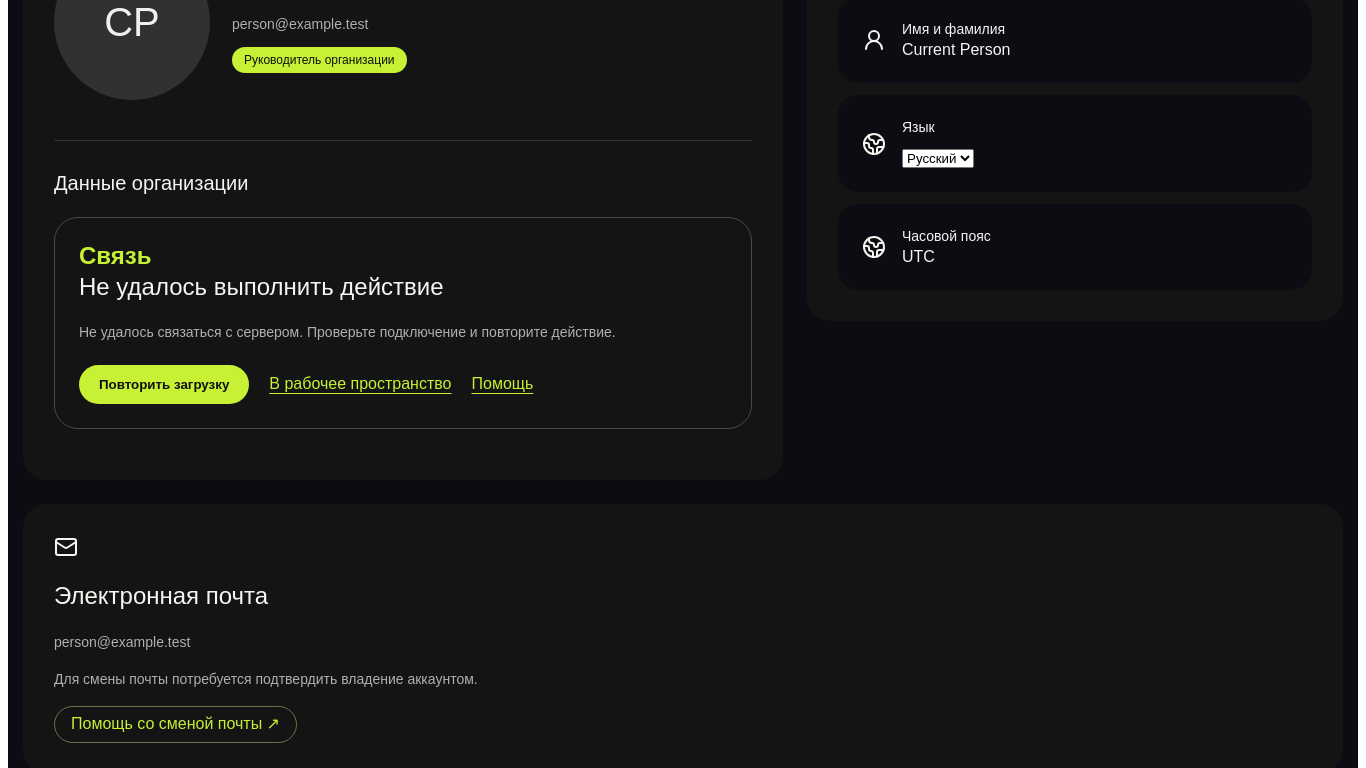
Test: retries organization loading after a network failure without presenting an onboarding offer
The image size is (1366, 768).
(page scrolled)
Expected: the message is shown, left=54, top=217, right=752, bottom=429
Click the button "Повторить загрузку": [164, 384] box left=79, top=365, right=249, bottom=404
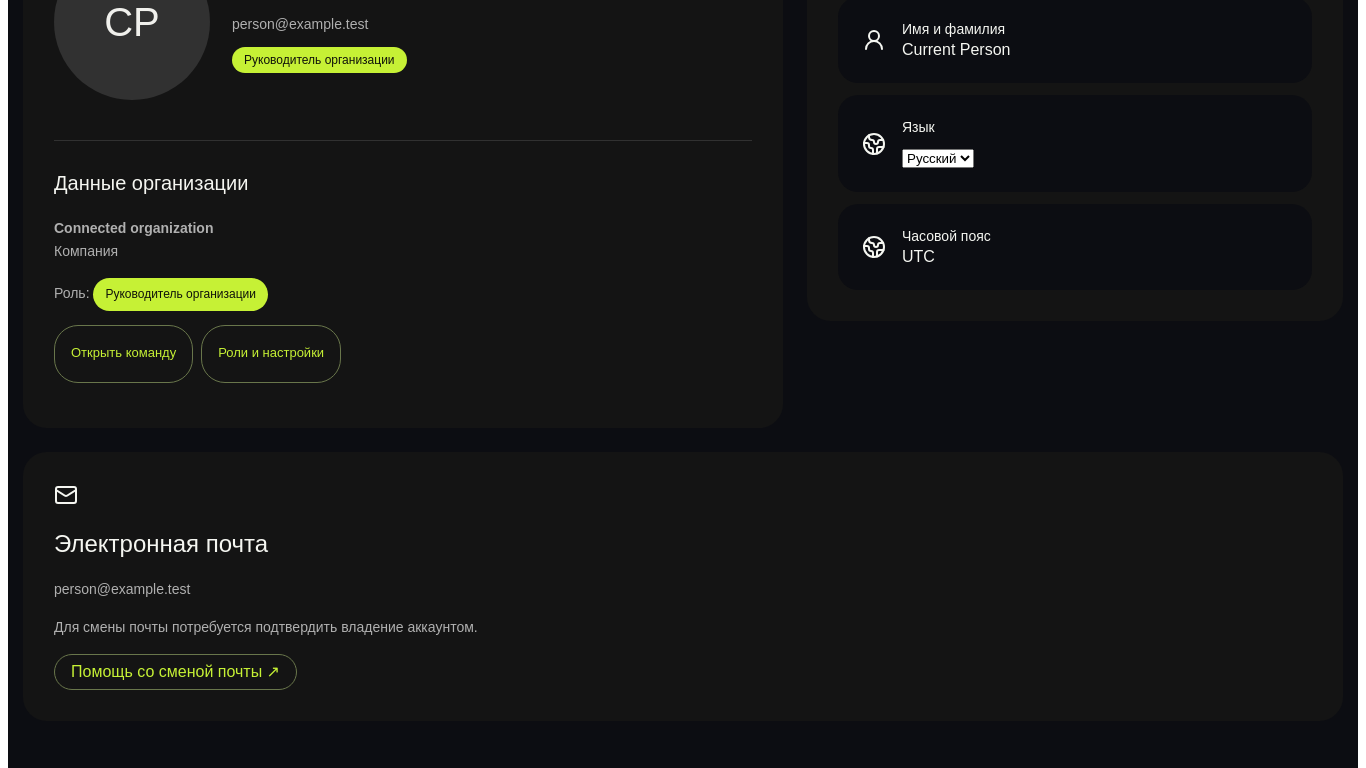
Expected: the text "Connected organization" is shown, left=54, top=220, right=214, bottom=236
Expected: the message is gone
